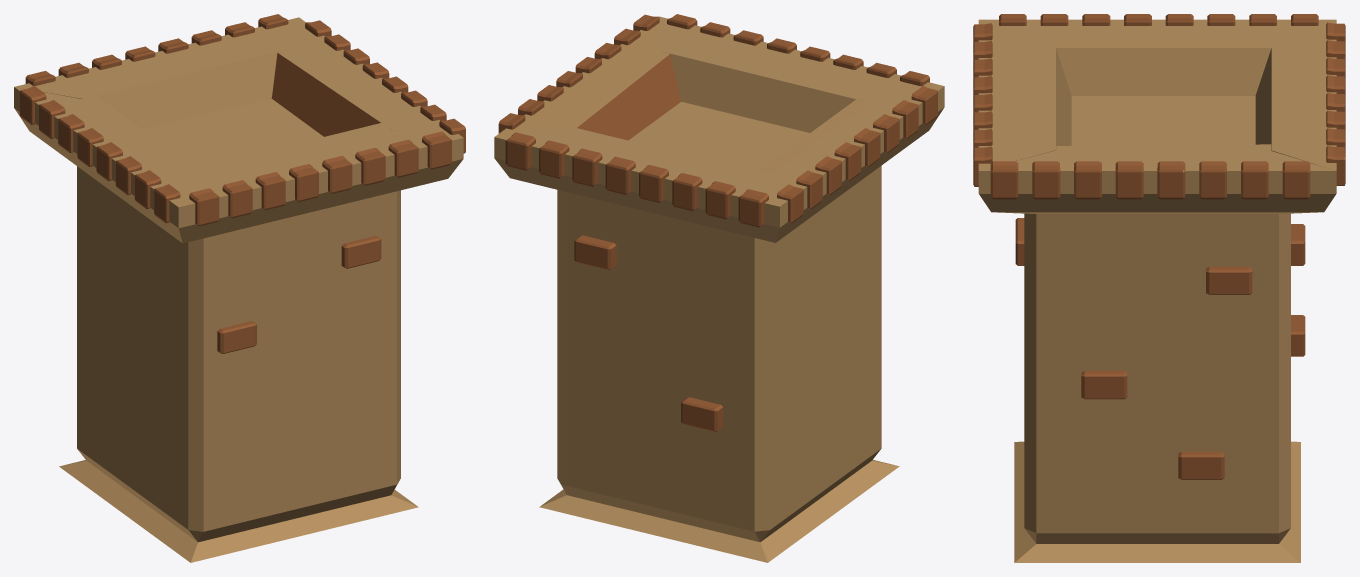
File: MidWallTower.fbx
3 views of the same model, side by side, from view 1: azimuth 30°, elevation 25°; view 2: azimuth 150°, elevation 25°; view 3: azimuth 270°, elevation 25° (orthographic). The views are drawn at different scales.
Visible parts, largest first — view 1: Cube.002; view 2: Cube.002; view 3: Cube.002.
Part boxes in pixels (x1,y1,x2,y2): Cube.002: [14, 14, 465, 562]; Cube.002: [494, 14, 944, 562]; Cube.002: [973, 14, 1345, 562].
Bounding box in the file's own units: 2681 × 3282 × 2677.
